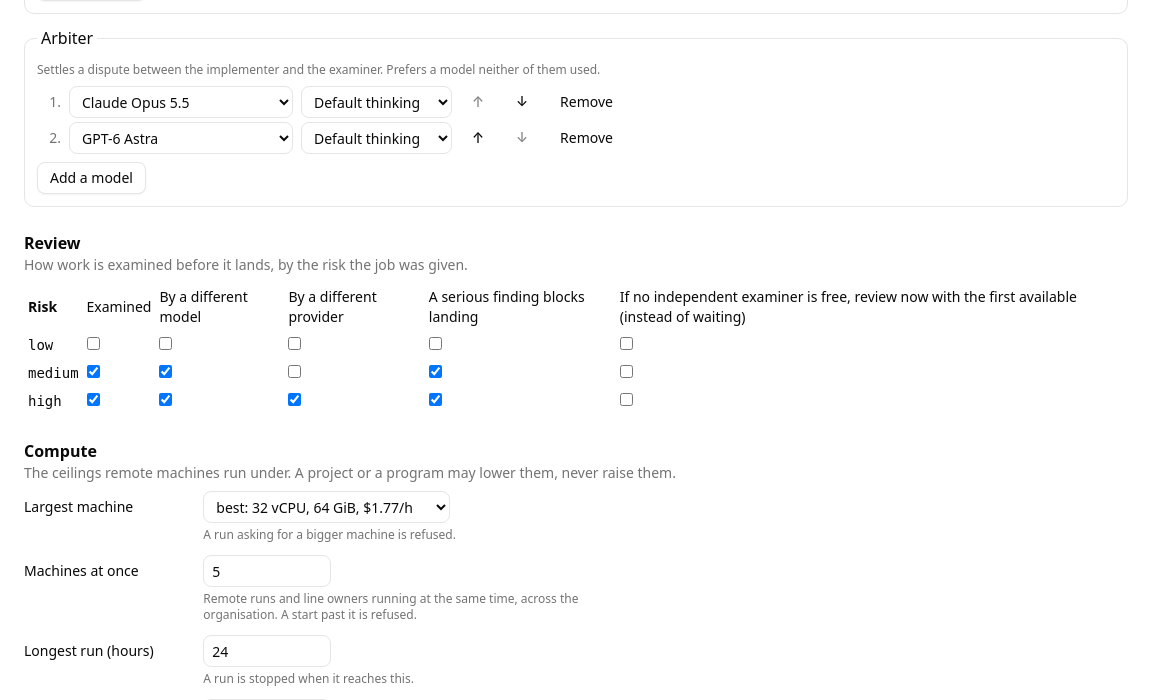
organisation settings › keeps the org's ceilings through a save that changes something else, and leaves defaults unset
This screenshot has width=1152, height=700.
(page scrolled)
Step 1. Click the checkbox named "low required" → {"x": 93, "y": 344}, box x1=87 y1=337 x2=100 y2=350
(page scrolled)
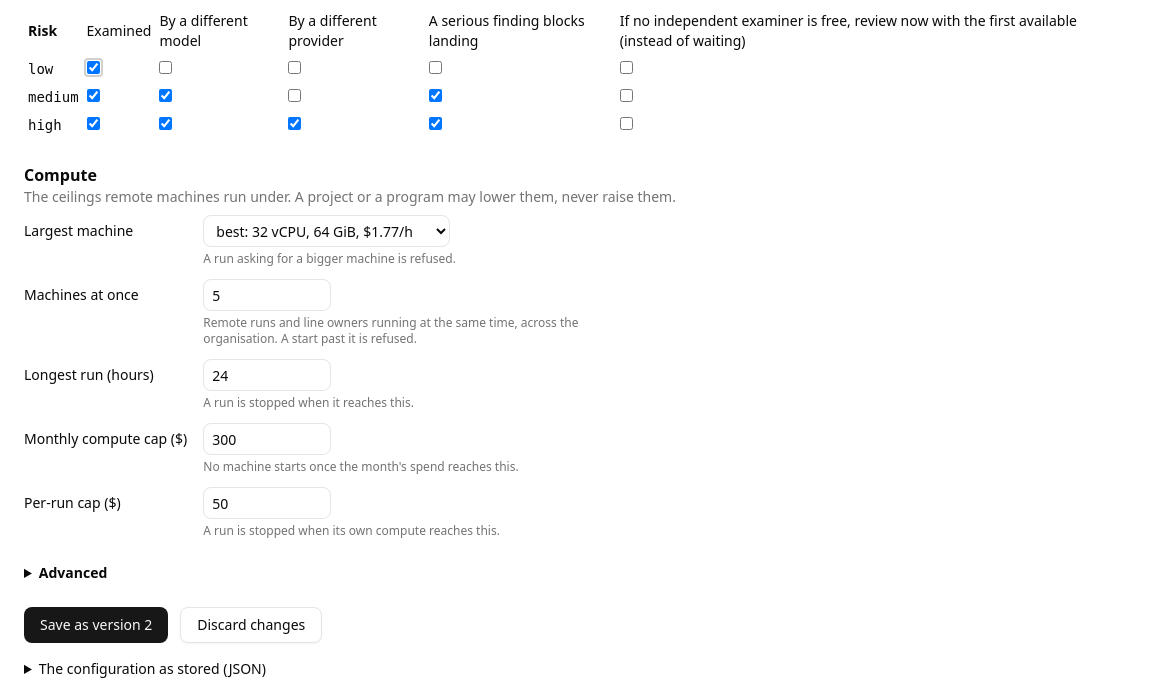
Step 2. Click the button "Save as version 2" → {"x": 96, "y": 625}, box x1=24 y1=607 x2=168 y2=643
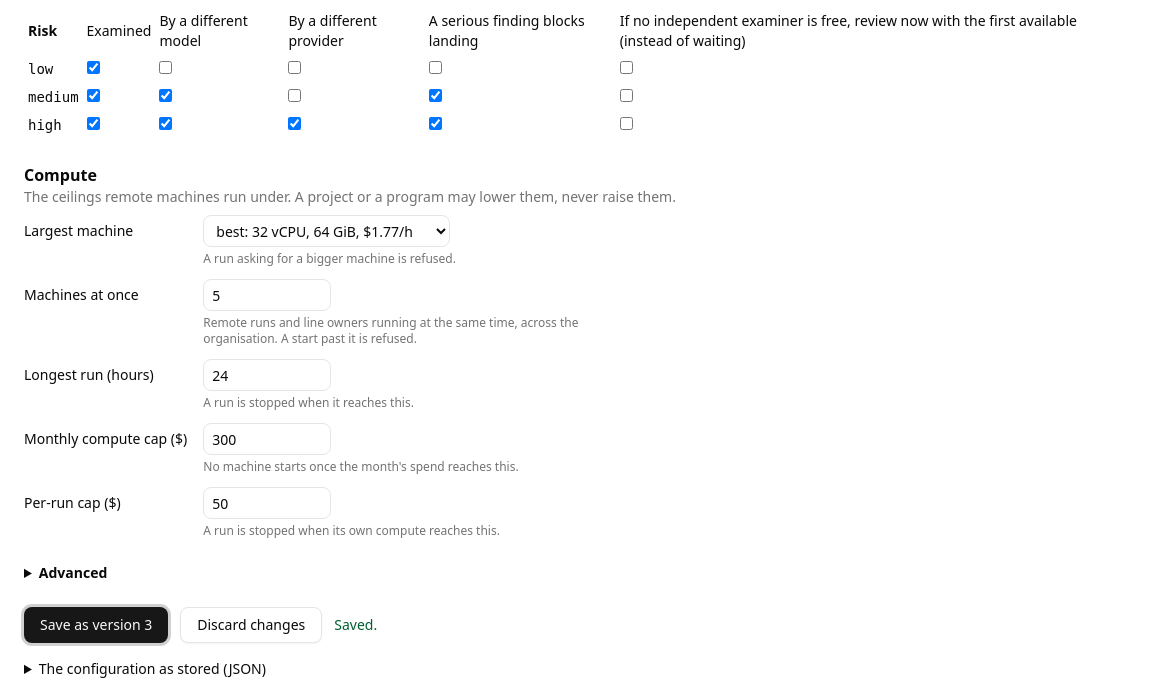
Check: the text "Saved." is shown, box x1=334 y1=615 x2=377 y2=635
